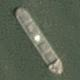ship: (9, 0, 67, 40)
